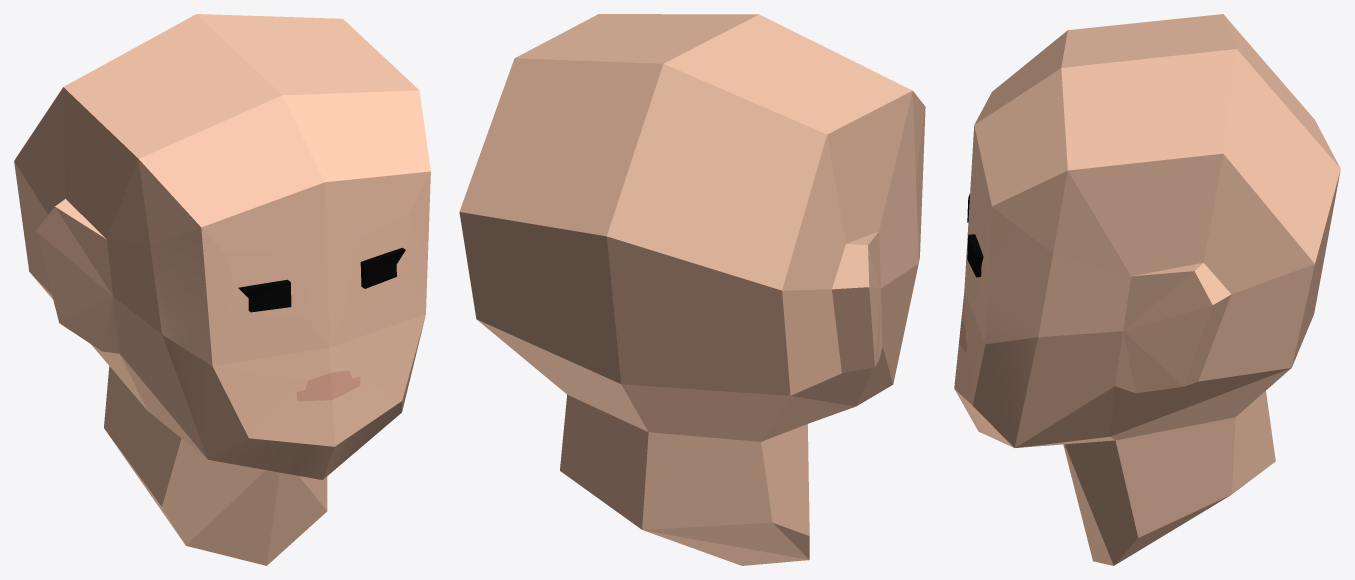
File: Chr_Head_Female_13_Static.fbx
3 views of the same model, side by side, from view 1: azimuth 30°, elevation 25°; view 2: azimuth 150°, elevation 25°; view 3: azimuth 270°, elevation 25° (orthographic). The views are drawn at different scales.
Visible parts, largest first — view 1: Chr_Head_Female_13_Static; view 2: Chr_Head_Female_13_Static; view 3: Chr_Head_Female_13_Static.
Boxes of the visible parts, box(x1,y1,x2,y2) form: Chr_Head_Female_13_Static: box(14, 14, 430, 565); Chr_Head_Female_13_Static: box(459, 14, 925, 565); Chr_Head_Female_13_Static: box(954, 14, 1340, 565).
Bounding box in the file's own units: 0.2661 × 0.3693 × 0.2526.
